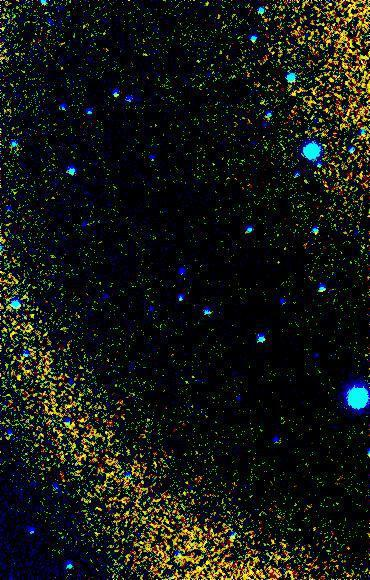star: (3, 363, 33, 393)
